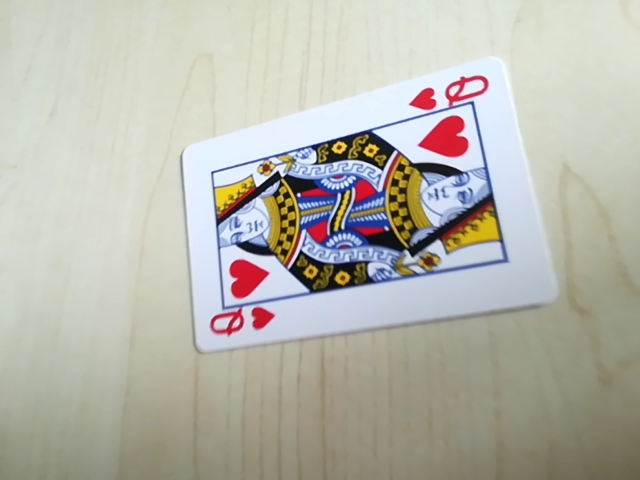hx q: (408, 69, 495, 118), (206, 299, 277, 344)
